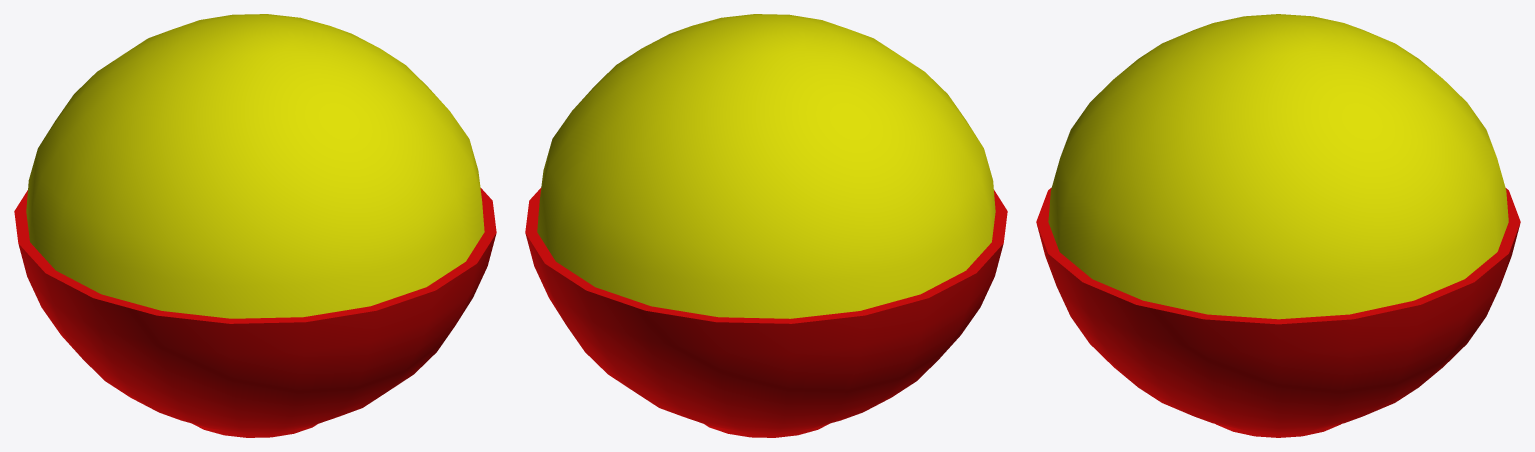
Rendered from gritsbowl.fbx.
The picture shows the model from 3 angles, left to right: view 1: azimuth 30°, elevation 25°; view 2: azimuth 150°, elevation 25°; view 3: azimuth 270°, elevation 25°; orthographic projection.
Parts seen in each view (by area): view 1: pSphere3; view 2: pSphere3; view 3: pSphere3.
Boxes of the visible parts, <box> form: pSphere3: <box>14,14,496,437</box>; pSphere3: <box>525,14,1007,437</box>; pSphere3: <box>1036,14,1520,437</box>.
Bounding box in the file's own units: 198 × 168 × 198.
